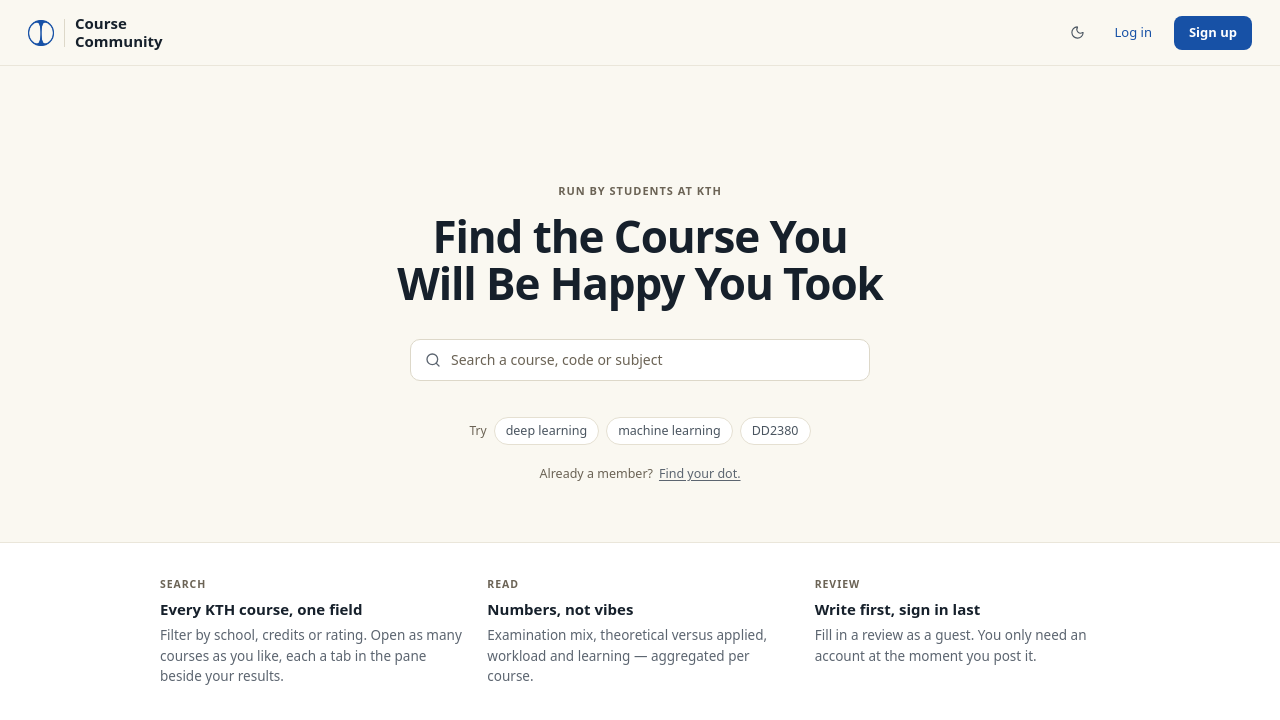
Landing › a visitor › find your dot › refuses an address that cannot be one, and sends nothing
Click the button "Find your dot." at (700, 474), box [659, 465, 741, 483]
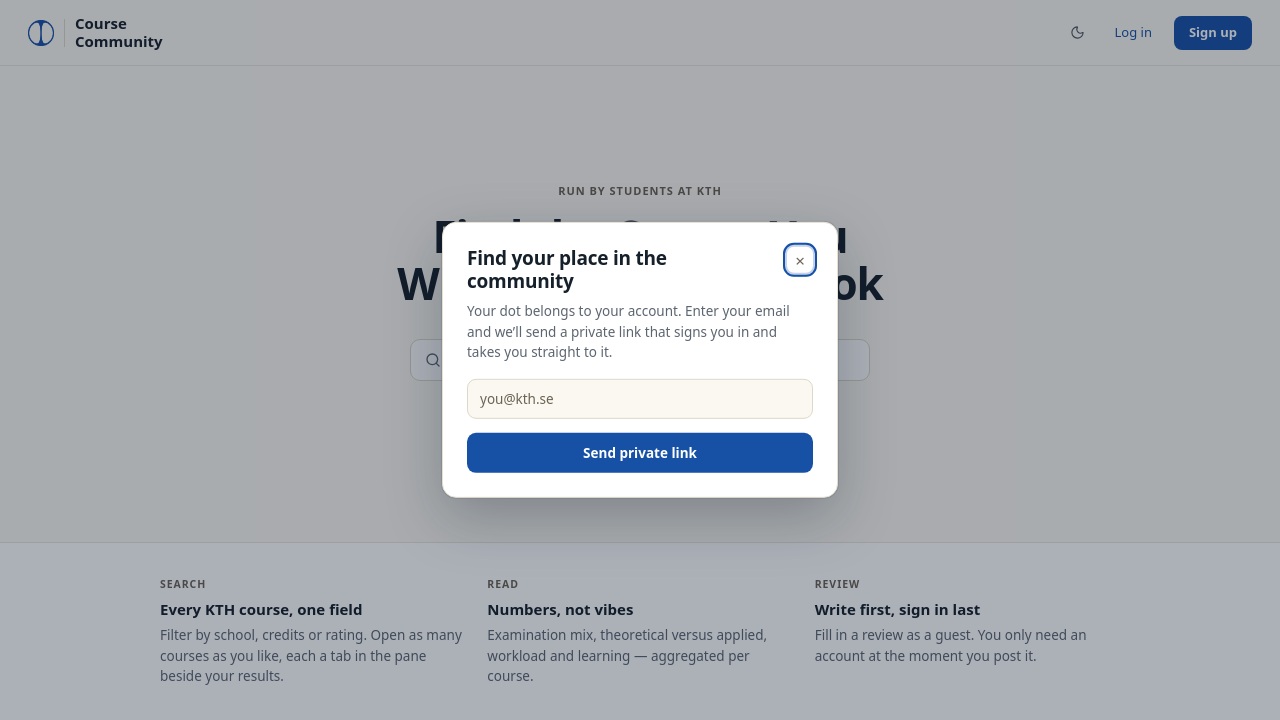
Type "nope" into the field named "email address" at (640, 399), box [467, 379, 813, 419]
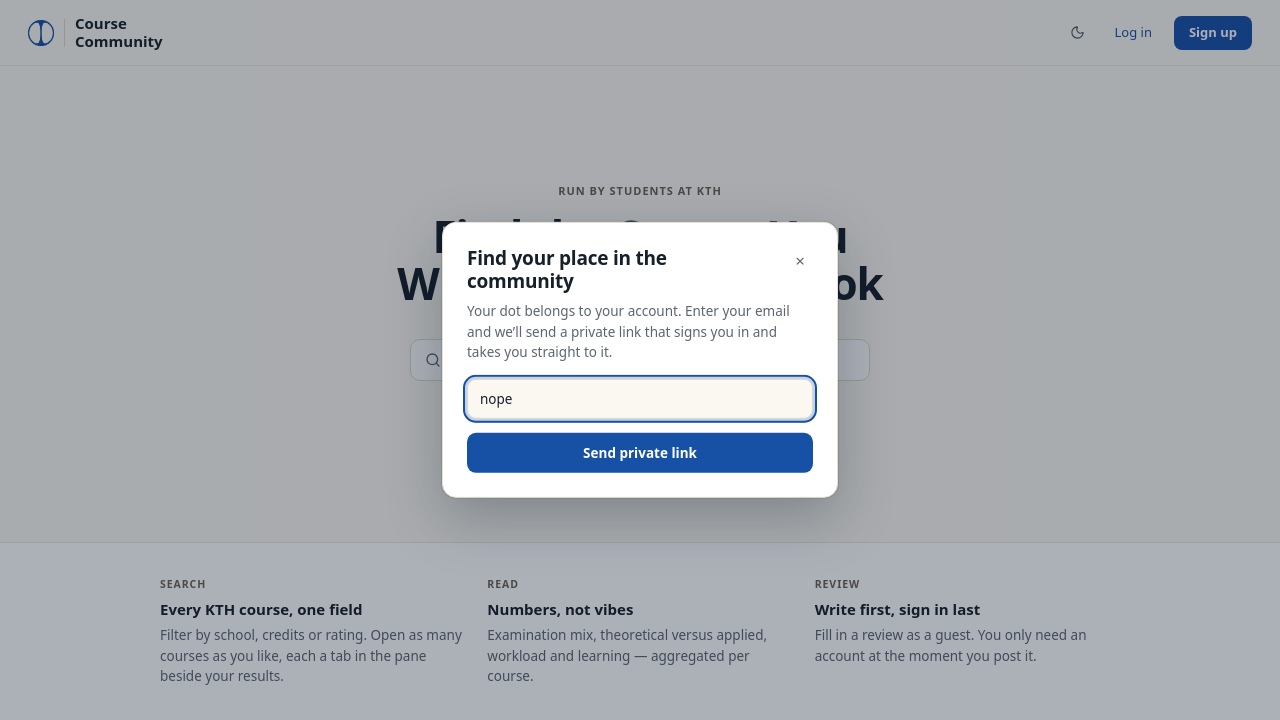
Click the button "Send private link" at (640, 453), box [467, 433, 813, 473]
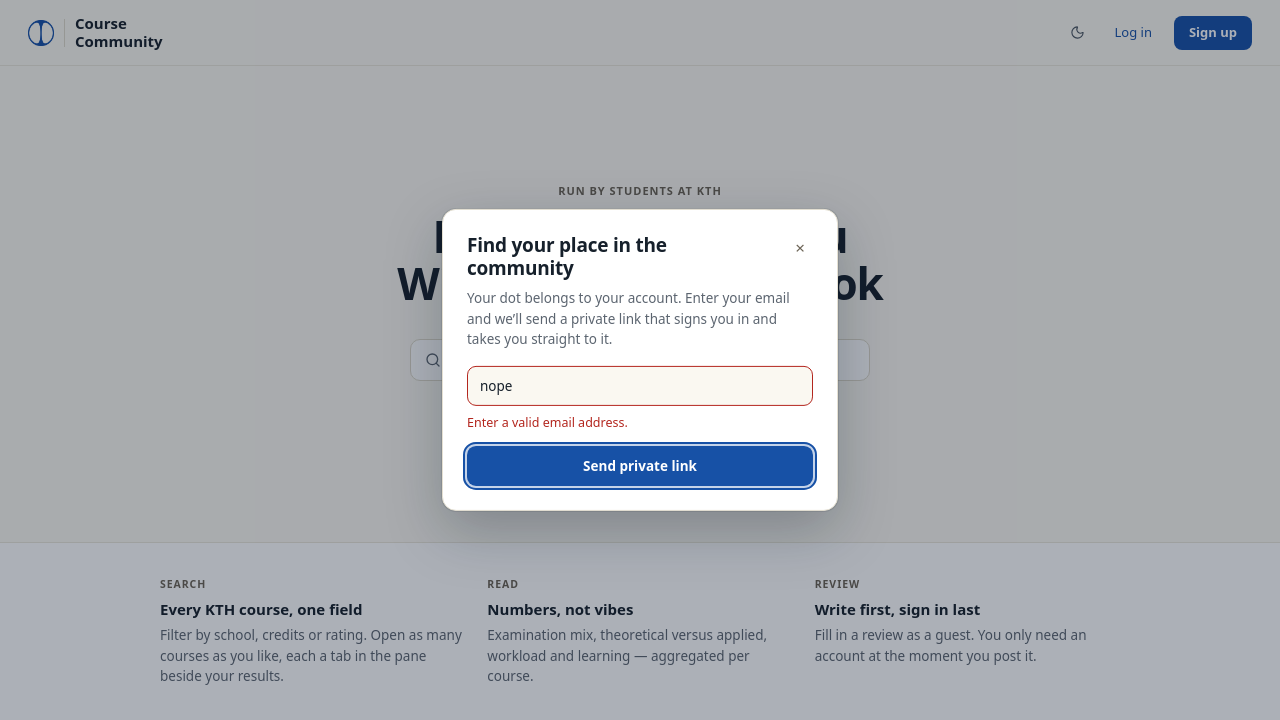
Result: the text "Enter a valid email address." is shown at [467, 414, 628, 431]
